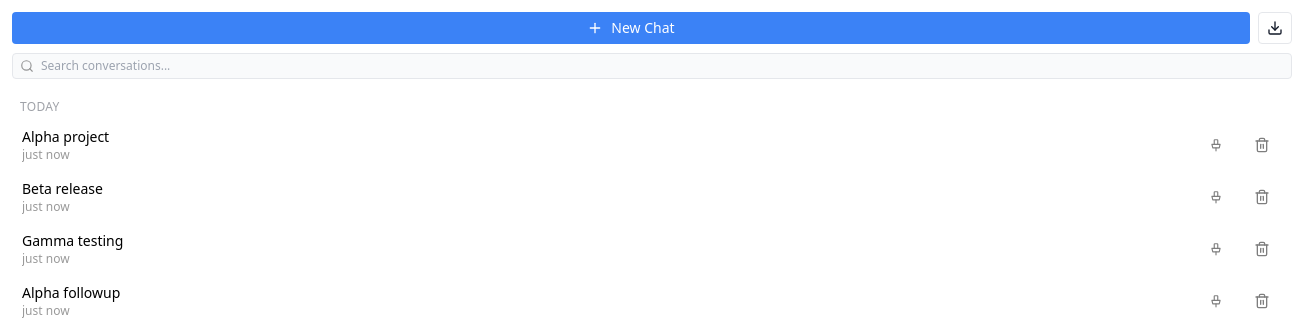
Test: Search result count badge › does not show count badge when search has no matches
This screenshot has width=1304, height=335.
Expected: the text "Alpha project" is shown, left=22, top=127, right=109, bottom=146
Type "zzzznotfound" into the field with test id "conversation-search" at (652, 66), box left=12, top=53, right=1292, bottom=79
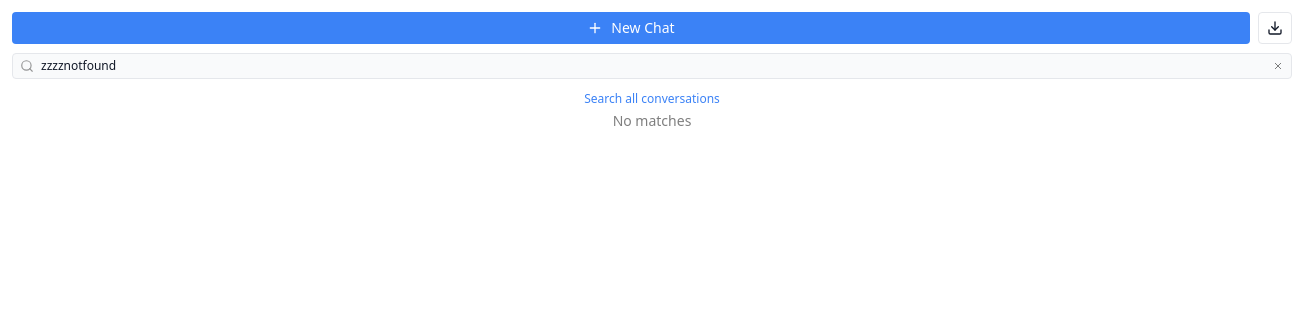
Result: the text "No matches" is shown at left=613, top=111, right=691, bottom=130
